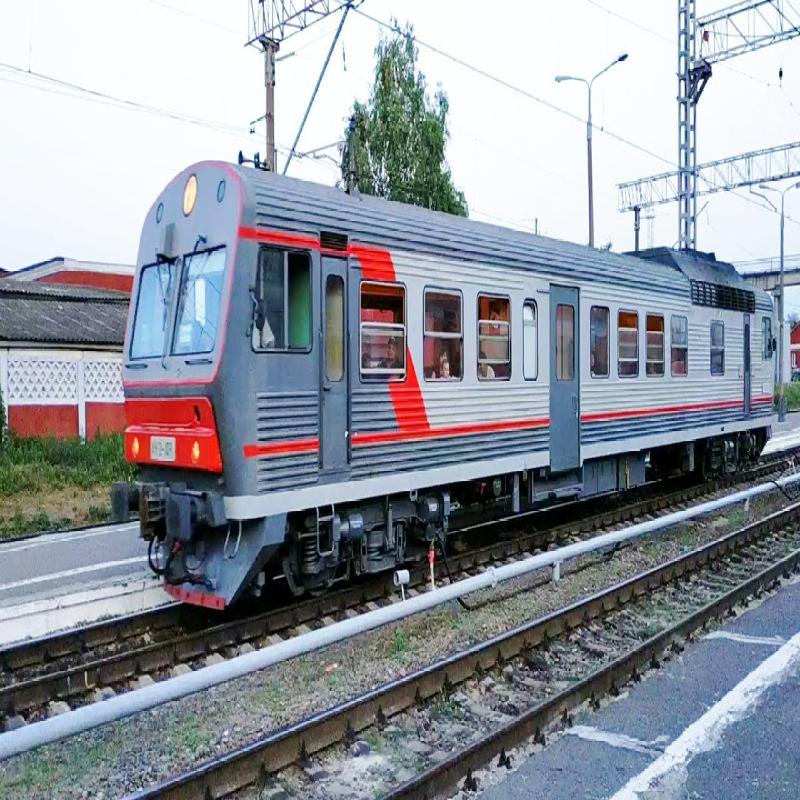train: (106, 162, 800, 614)
